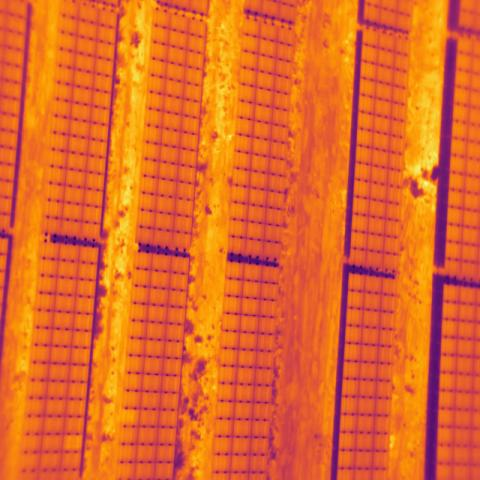fault: (63, 433, 83, 451), (121, 409, 139, 427)
